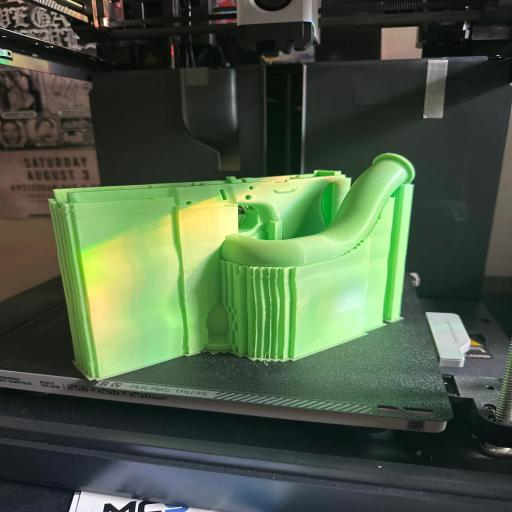cracks: (155, 198, 268, 216)
